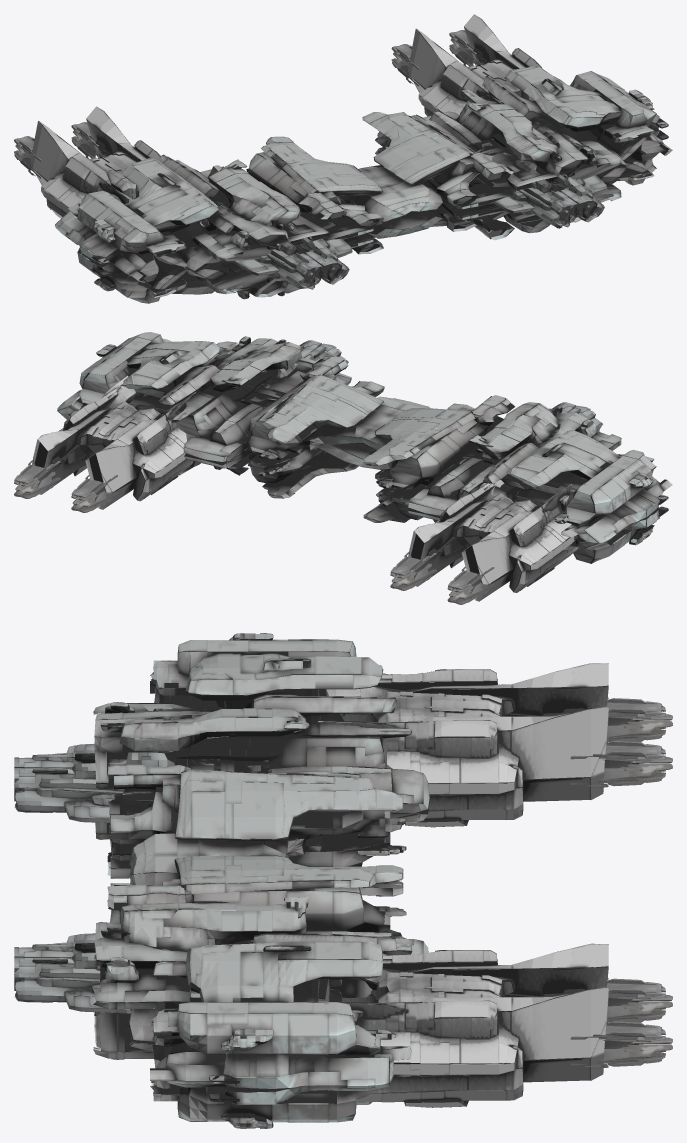
File: CARIER_000.fbx
3 views of the same model, one above another, from view 1: azimuth 30°, elevation 25°; view 2: azimuth 150°, elevation 25°; view 3: azimuth 270°, elevation 25° (orthographic). The views are drawn at different scales.
Parts seen in each view (by area): view 1: CARIER_000; view 2: CARIER_000; view 3: CARIER_000.
Part boxes in pixels (x1=…): CARIER_000: x1=14, y1=14, x2=672, y2=303; CARIER_000: x1=14, y1=332, x2=672, y2=604; CARIER_000: x1=14, y1=633, x2=672, y2=1128.
Bounding box in the file's own units: 211 × 36.2 × 139.
